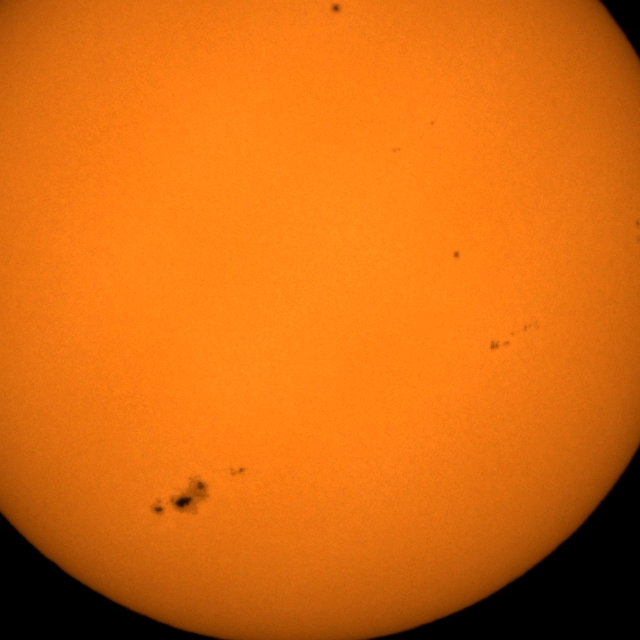sunspot: (147, 476, 214, 518), (487, 322, 540, 352), (488, 336, 512, 352), (328, 1, 343, 16), (229, 466, 247, 478), (522, 322, 538, 334), (390, 146, 402, 155), (452, 249, 461, 261), (635, 218, 640, 230), (429, 119, 436, 127)
